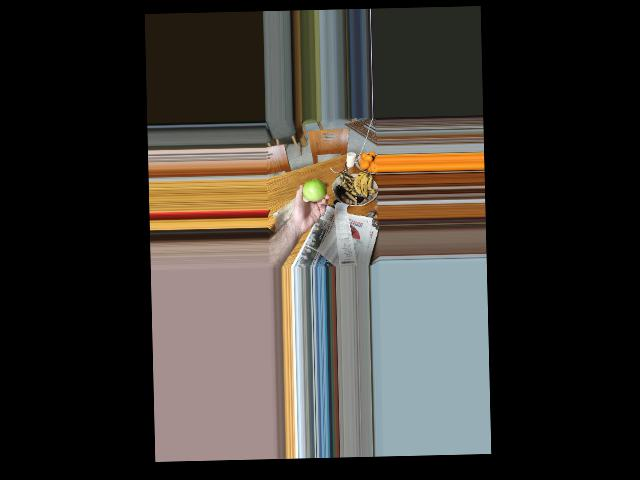apple: (302, 177, 326, 202)
